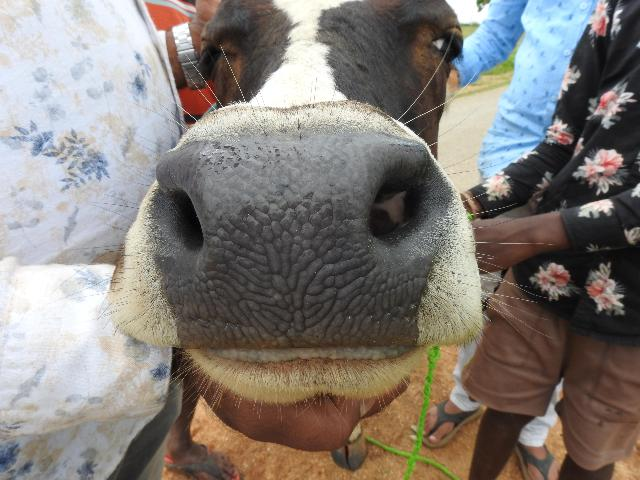Muzzle: (191, 142, 373, 340)
